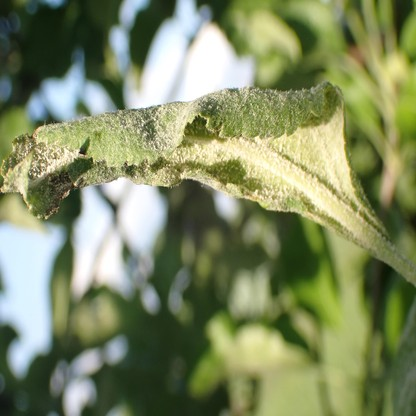powder: (1, 81, 389, 244)
